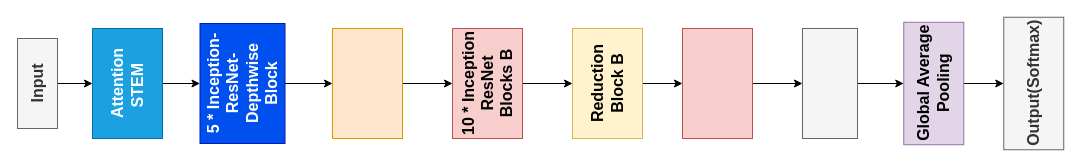
Some shapes in this 1082 by 168 pixel diagram are drawn without their labels. The centre of each missing label's shape, as x and y in pixels:
5 * Inception ResNet Block C: point (717, 83)
Dropout: point (830, 83)
Reduction Block A: point (367, 83)
